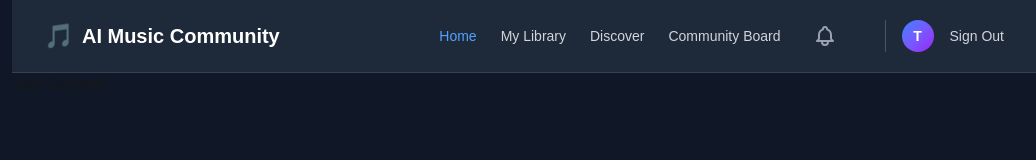
Scenario: MainLayout Navigation › Moderation Link Visibility › should NOT show Moderation link for regular users
Open avatar dropdown
Click the button named "User menu" at (918, 36), box [902,20,934,52]
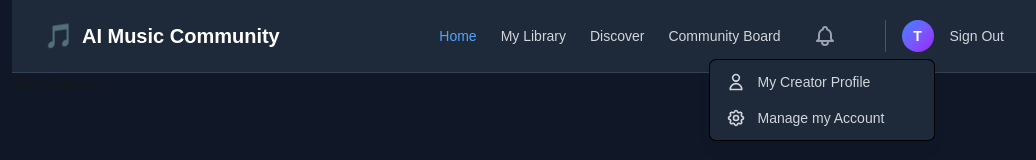
Check: the menu item "My Creator Profile" is shown, box [710,64,934,100]
